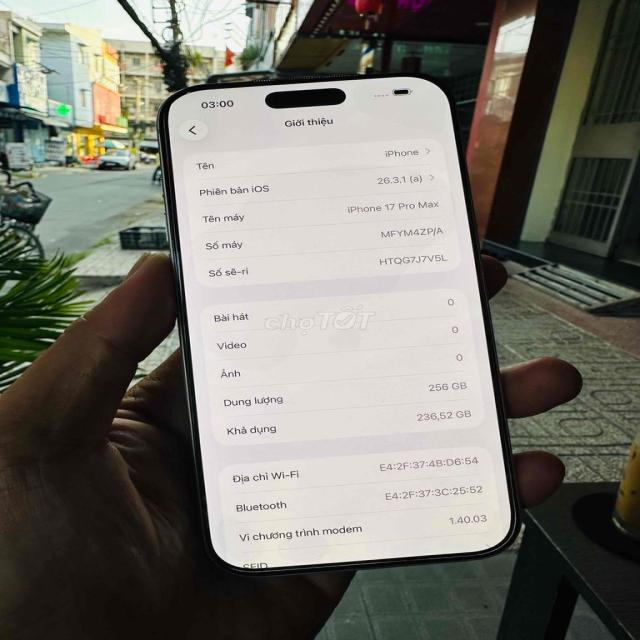gen_17: (156, 51, 568, 589)
